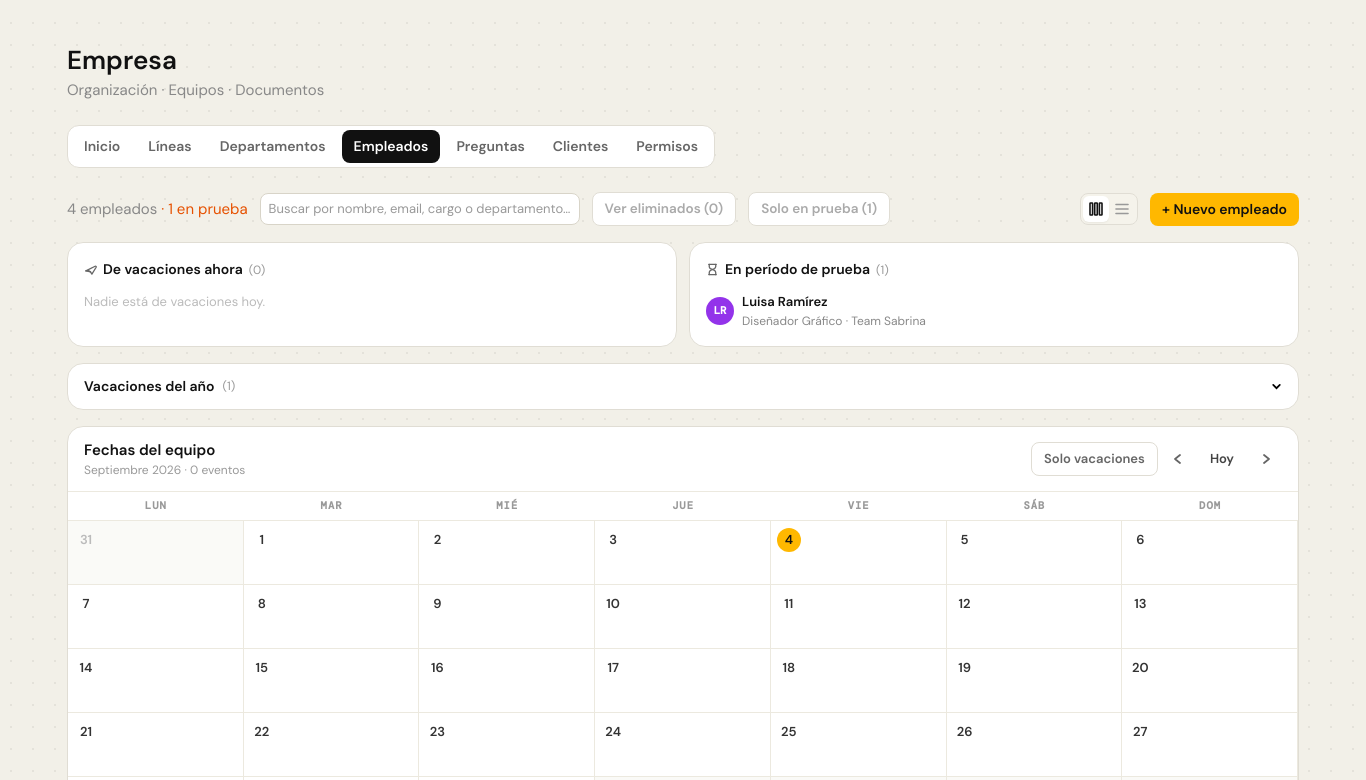
it: EmployeesView › la búsqueda filtra por email
Type "carlos@" into the field with placeholder "Buscar por nombre, email, cargo o departamento…" at (420,209), box [260,193,580,225]
(page scrolled)
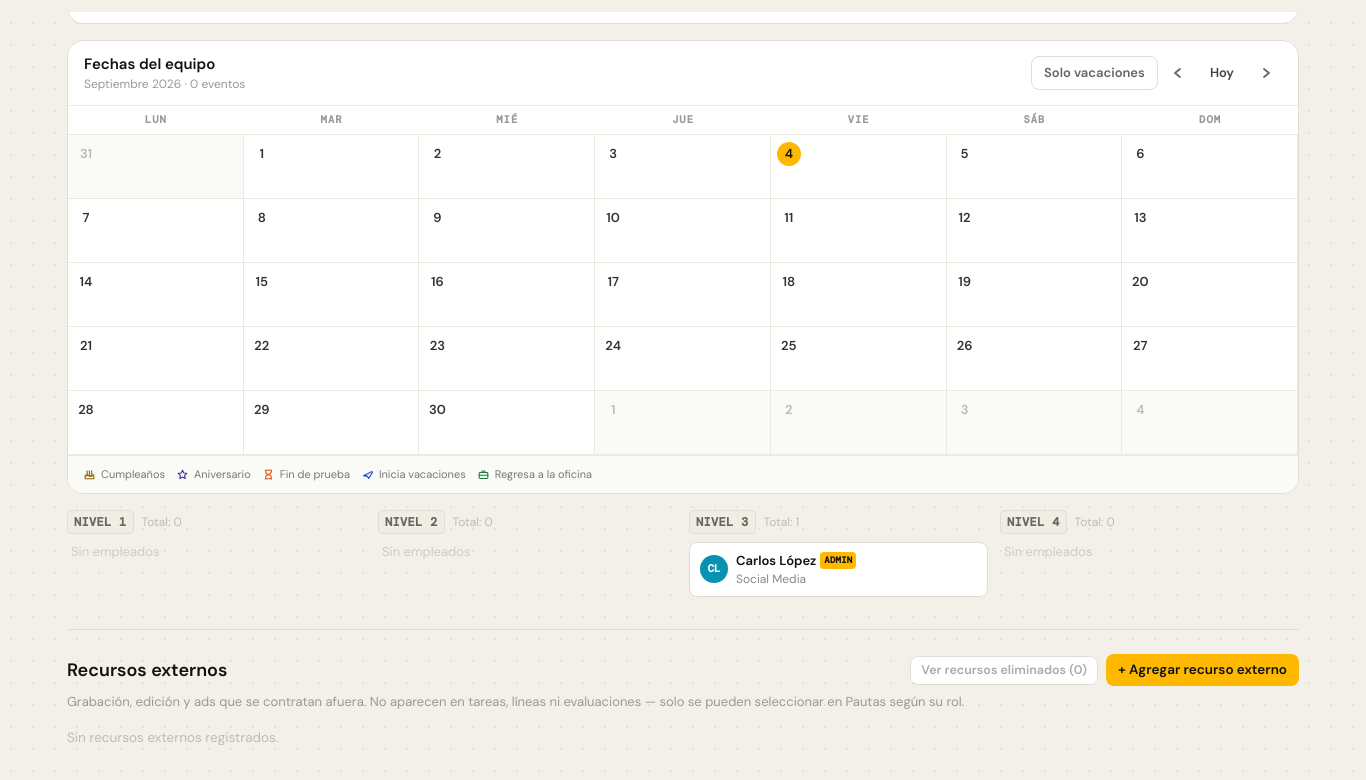
Now the text "Carlos López" is shown, box [736,550,816,570]
